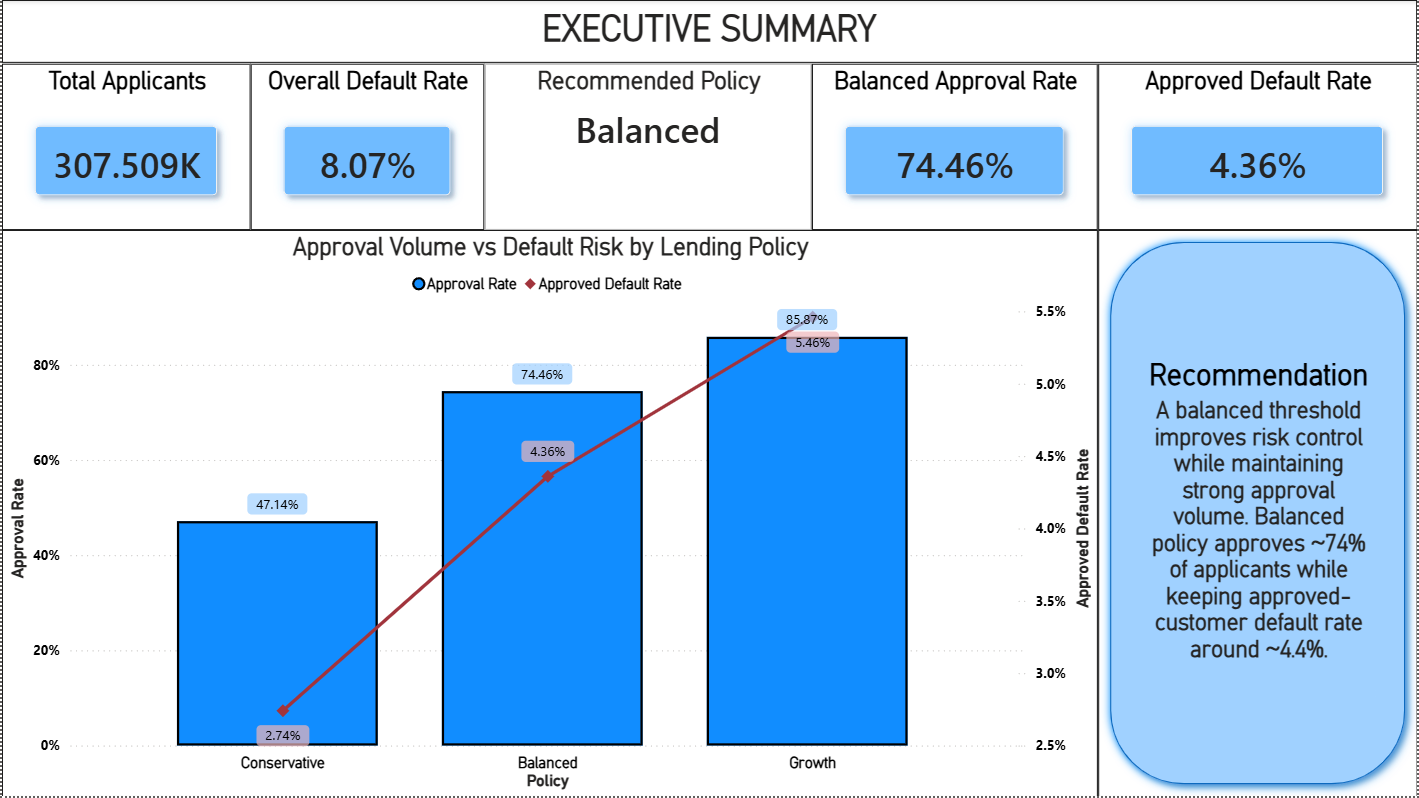

What the dashboard file says about the page in this screenshot:
{"tool":"powerbi","page":{"name":"Executive Summary","canvas":[1280,720],"ordinal":0},"visuals":[{"type":"textbox","title":"JGJGJVB","box":[0,0,1280,57.1],"z":0},{"type":"cardVisual","title":"Total Applicants","fields":{"Data":["CountNonNull(cleaned_data.TARGET)"]},"box":[0,57.5,225,150],"z":1000},{"type":"cardVisual","title":"Overall Default Rate","fields":{"Data":["cleaned_data.Overall Default Rate"]},"box":[225,57.5,211.2,150],"z":2000},{"type":"cardVisual","title":"Balanced Approval Rate","fields":{"Data":["model_results_test.Balanced Approval Rate"]},"box":[732.5,57.5,258.8,150],"z":3000},{"type":"textbox","title":"Recommended Policy","box":[436.2,57.5,296.2,150],"z":4000},{"type":"cardVisual","title":"Approved Default Rate","fields":{"Data":["model_results_test.Balanced Approved Default Rate"]},"box":[991.2,57.5,288.8,150],"z":5000},{"type":"lineClusteredColumnComboChart","title":"Approval Volume vs Default Risk by Lending Policy","fields":{"Category":["Policy Summary.Policy"],"Y":["Sum(Policy Summary.Approval Rate)"],"Y2":["Sum(Policy Summary.Approval Default Rate)"]},"box":[0,207.5,991.2,512.5],"z":6000},{"type":"shape","box":[991.2,207.5,288.8,512.5],"z":7000},{"type":"textbox","title":"Recommendation","box":[1031.2,322.5,211.2,310],"z":8000}]}

Visuals, with their boxes in screenshot pixels (x1, y1, x2, y2), scaled from the page's 1280x720 canvas onto the 1419x798 screenshot:
"JGJGJVB" textbox: rect(0, 0, 1418, 63)
"Total Applicants" cardVisual: rect(0, 64, 249, 230)
"Overall Default Rate" cardVisual: rect(249, 64, 484, 230)
"Balanced Approval Rate" cardVisual: rect(812, 64, 1099, 230)
"Recommended Policy" textbox: rect(484, 64, 812, 230)
"Approved Default Rate" cardVisual: rect(1099, 64, 1418, 230)
"Approval Volume vs Default Risk by Lending Policy" lineClusteredColumnComboChart: rect(0, 230, 1099, 797)
shape: rect(1099, 230, 1418, 797)
"Recommendation" textbox: rect(1143, 357, 1377, 701)
